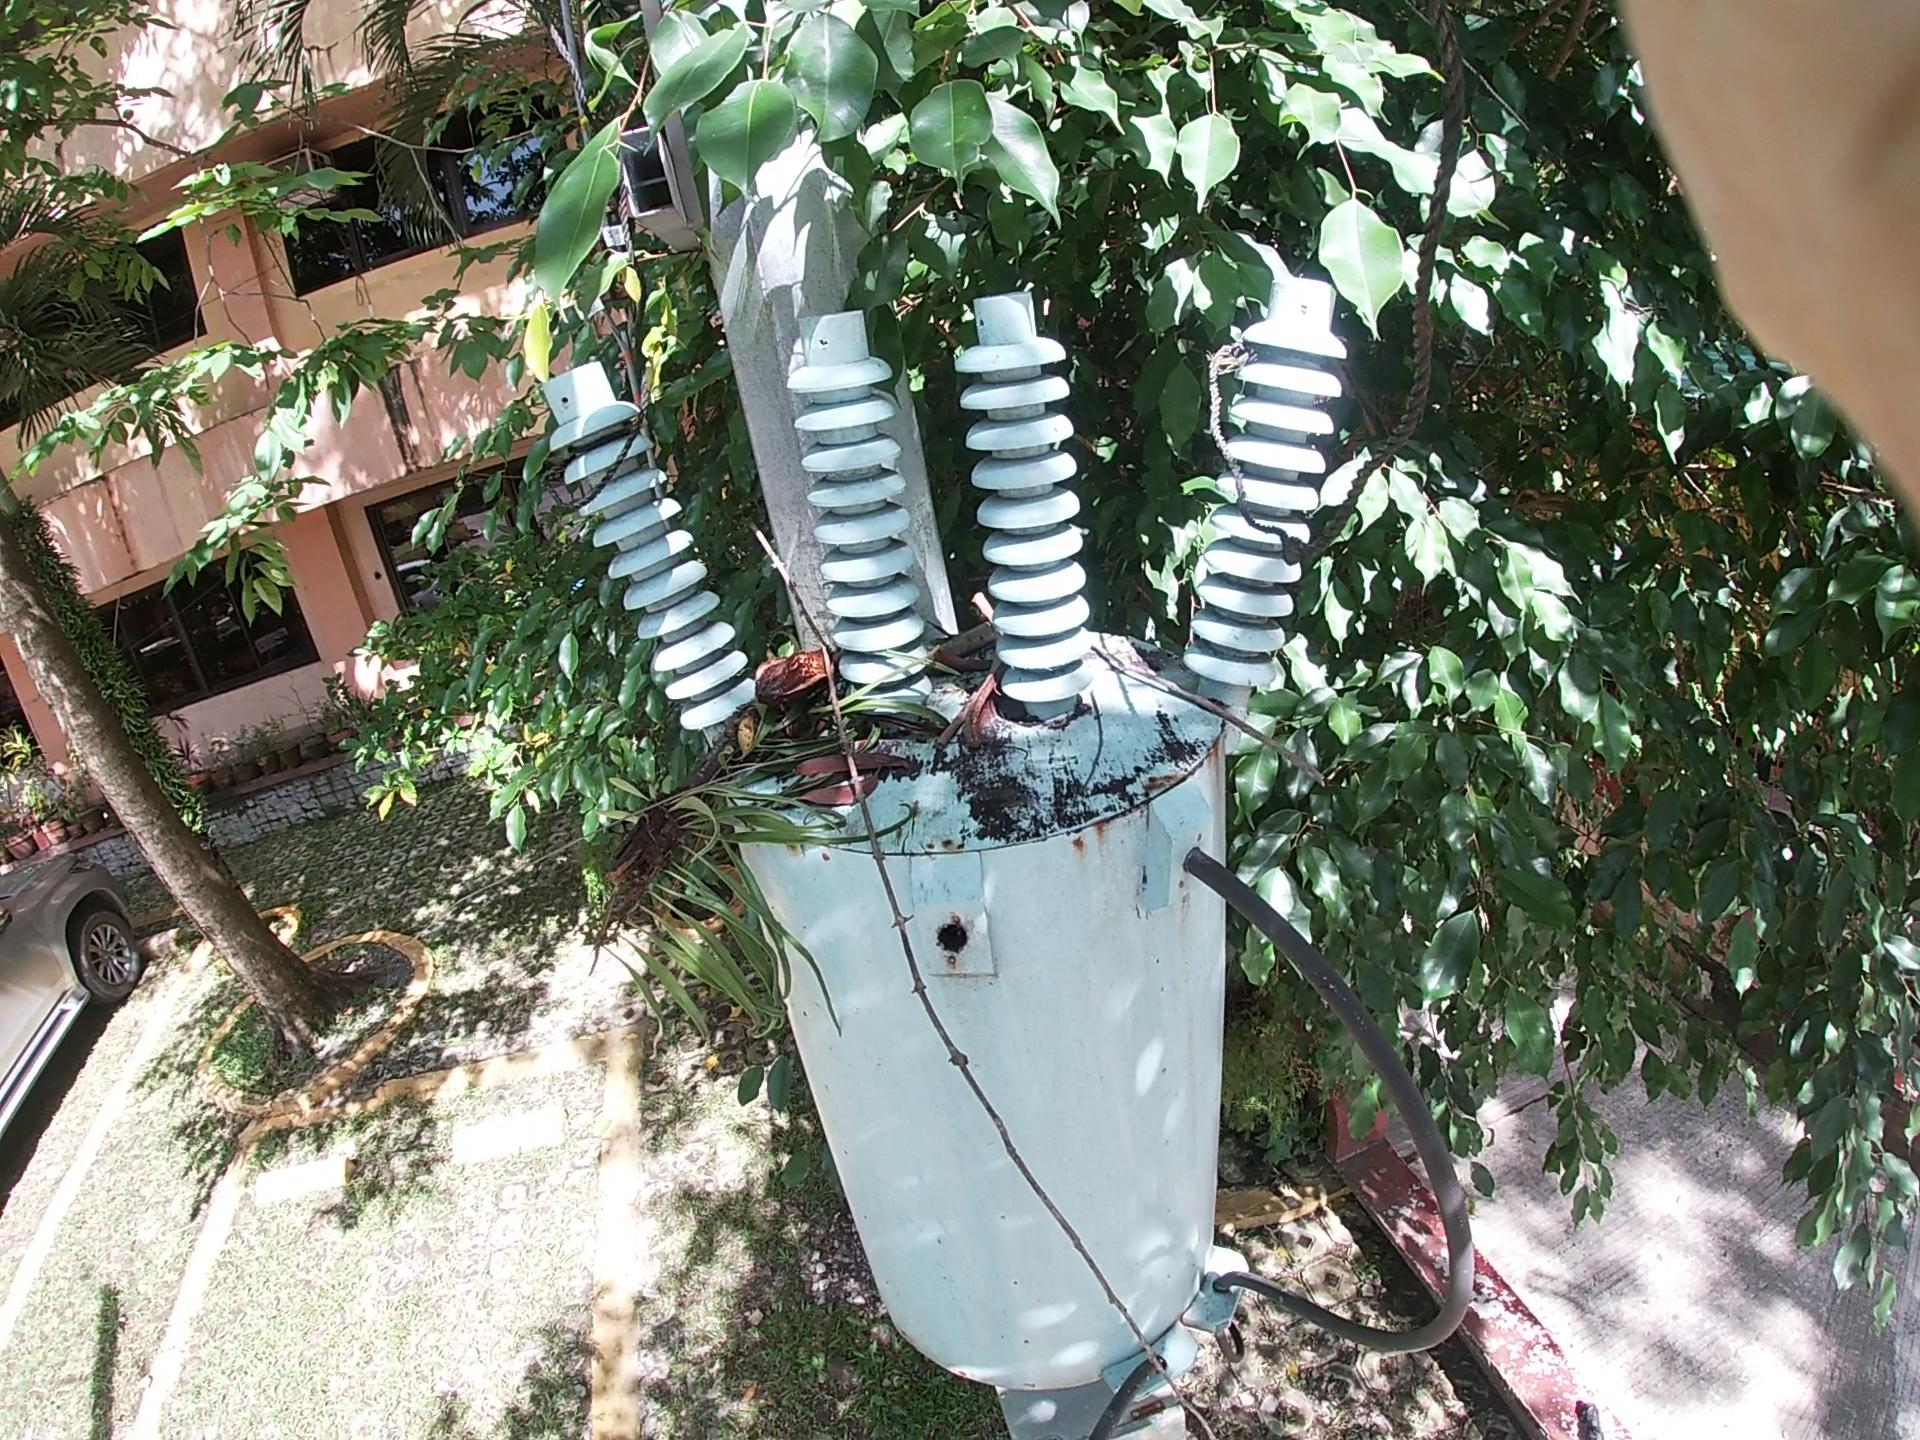branch with leaves: (541, 554, 800, 954)
leaf: (765, 722, 977, 830)
mahogany fruit: (703, 611, 854, 777), (937, 653, 1079, 784)
tree branch: (783, 573, 1114, 1369), (1005, 546, 1401, 791), (906, 593, 1072, 765)
